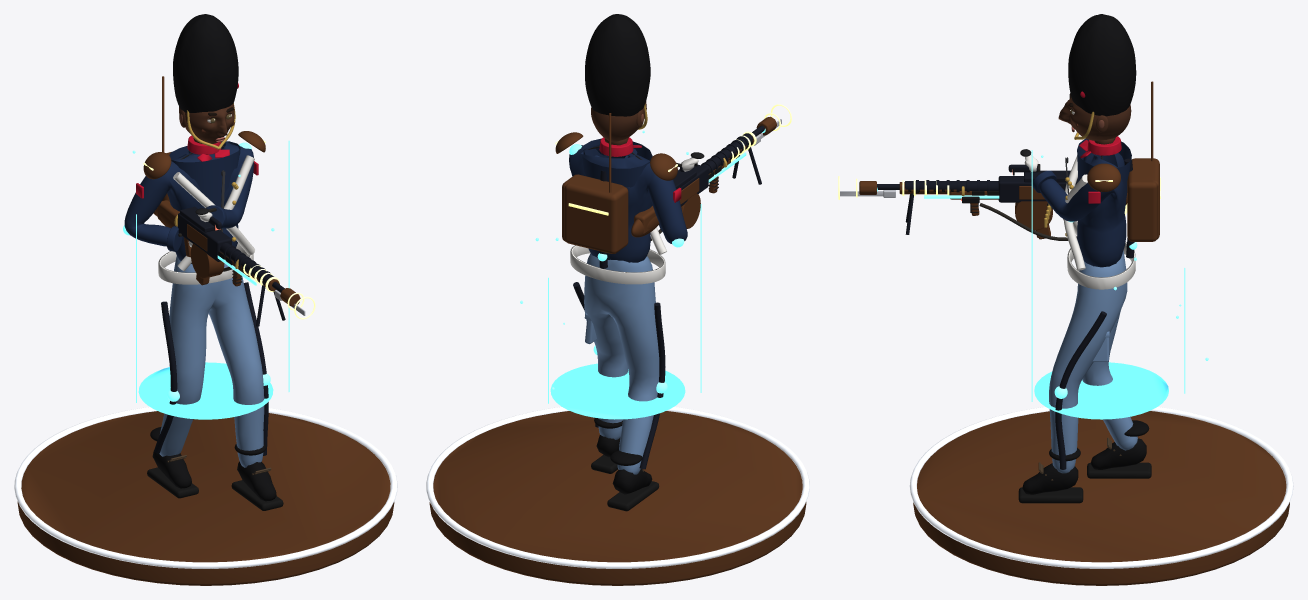
The model's file is garder_kbh.glb.
3 views of the same model, side by side, from view 1: azimuth 30°, elevation 25°; view 2: azimuth 150°, elevation 25°; view 3: azimuth 270°, elevation 25° (orthographic).
Visible parts, largest first — view 1: fod_net, menneske_net, hoved_net, op4.001_net, vaaben_net, op1_net, op4.002_net, op3.001_net, op3_net, op4_net; view 2: fod_net, menneske_net, hoved_net, op4.002_net, op4.001_net, vaaben_net, op1_net, op3.001_net, ned4_net, op3_net, op4_net; view 3: fod_net, menneske_net, hoved_net, op4.001_net, vaaben_net, ned4_net, op1_net, op4.002_net, op3.001_net, op3_net, op1.001_net, op2_net (+1 smaller).
Boxes of the visible parts, x1,y1,x2,y2 form: fod_net: [14, 407, 397, 585]; menneske_net: [124, 135, 283, 510]; hoved_net: [173, 14, 238, 149]; op4.001_net: [132, 140, 289, 419]; vaaben_net: [155, 200, 285, 326]; op1_net: [158, 155, 254, 284]; op4.002_net: [123, 142, 270, 455]; op3.001_net: [143, 76, 265, 186]; op3_net: [187, 224, 300, 306]; op4_net: [217, 255, 315, 319]; fod_net: [426, 407, 809, 585]; menneske_net: [569, 137, 704, 511]; hoved_net: [585, 14, 650, 141]; op4.002_net: [564, 144, 684, 469]; op4.001_net: [520, 130, 701, 419]; vaaben_net: [631, 133, 761, 237]; op1_net: [570, 227, 666, 284]; op3.001_net: [555, 113, 677, 192]; ned4_net: [562, 174, 623, 241]; op3_net: [679, 116, 776, 204]; op4_net: [708, 104, 791, 182]; fod_net: [909, 406, 1293, 585]; menneske_net: [1018, 136, 1151, 503]; hoved_net: [1058, 14, 1136, 140]; op4.001_net: [1031, 150, 1208, 419]; vaaben_net: [905, 164, 1127, 234]; ned4_net: [1127, 160, 1157, 241]; op1_net: [1063, 155, 1135, 289]; op4.002_net: [1054, 158, 1160, 469]; op3.001_net: [1065, 81, 1153, 191]; op3_net: [859, 181, 1047, 237]; op1.001_net: [878, 184, 1077, 240]; op2_net: [840, 168, 1014, 215].
Bounding box in the file's own units: 1.94 × 2.74 × 2.3.
